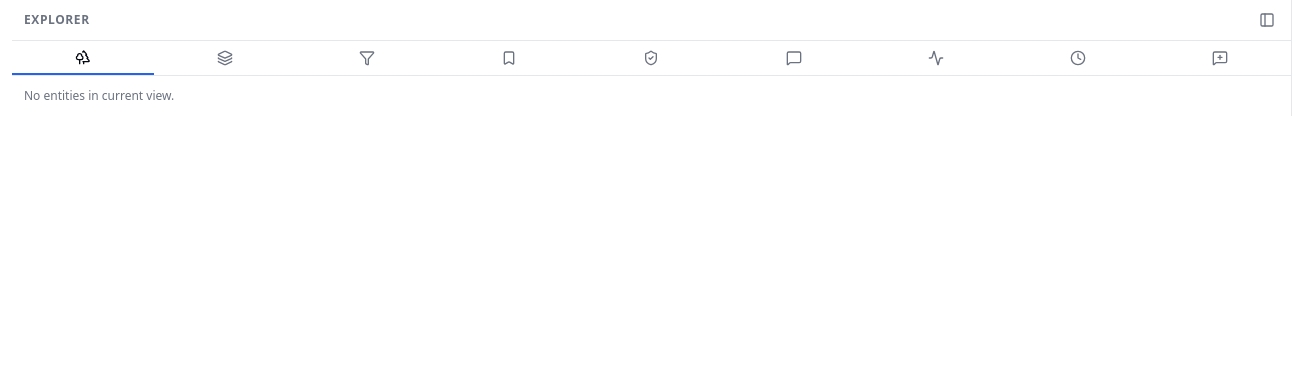
Test case: ProposalsPanel (Explorer tab) › should show proposals grouped by status
Step 1. Click the tab named "Proposals" → (1220, 58), box x1=1149 y1=41 x2=1291 y2=75
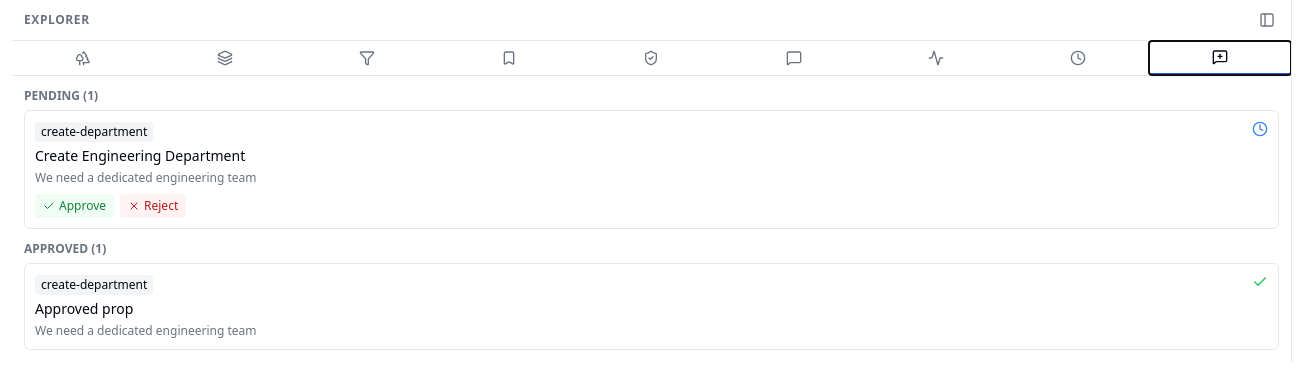
Now the heading "Pending (1)" is shown, box x1=24 y1=87 x2=98 y2=104
Now the heading "Approved (1)" is shown, box x1=24 y1=240 x2=106 y2=257
